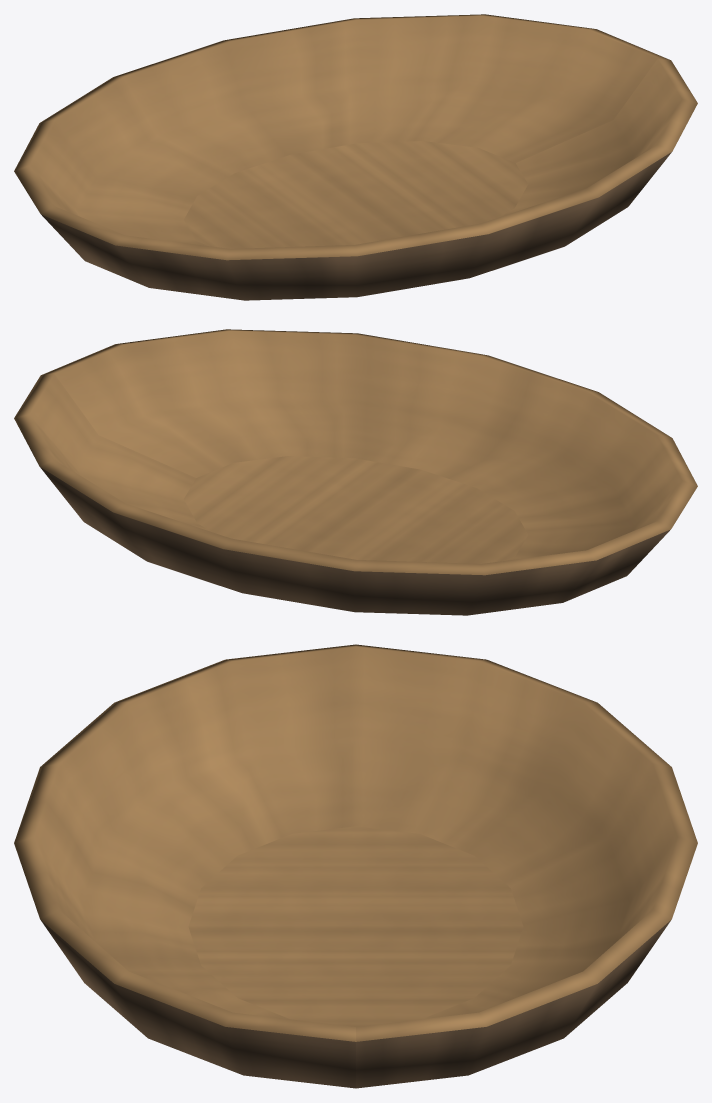
File: winnowing_tray.glb
3 views of the same model, one above another, from view 1: azimuth 30°, elevation 25°; view 2: azimuth 150°, elevation 25°; view 3: azimuth 270°, elevation 25° (orthographic). The views are drawn at different scales.
Parts seen in each view (by area): view 1: WINNOWING_TRAY; view 2: WINNOWING_TRAY; view 3: WINNOWING_TRAY.
Part boxes in pixels (left/top/right/bottom): WINNOWING_TRAY: left=14, top=14, right=697, bottom=300; WINNOWING_TRAY: left=14, top=329, right=697, bottom=615; WINNOWING_TRAY: left=14, top=644, right=697, bottom=1088.
Size of the model in its own units: 0.55 by 0.072 by 0.4.
Materials: 1 (1 with a texture image).
